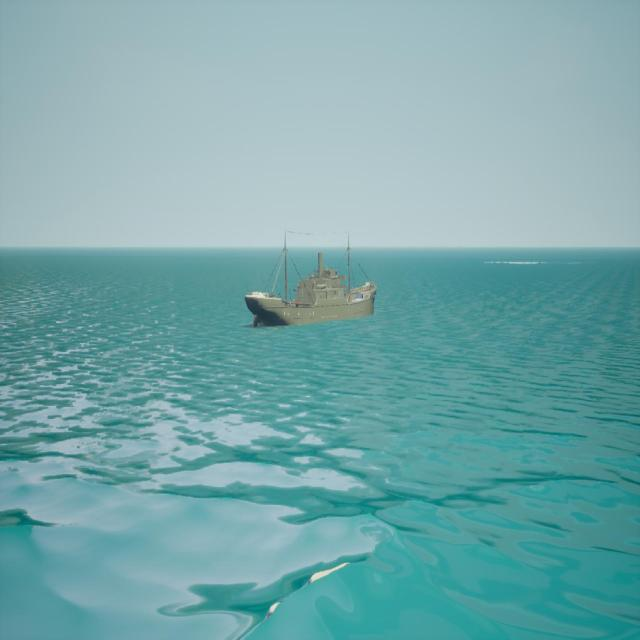fishing ship: (247, 232, 378, 329)
